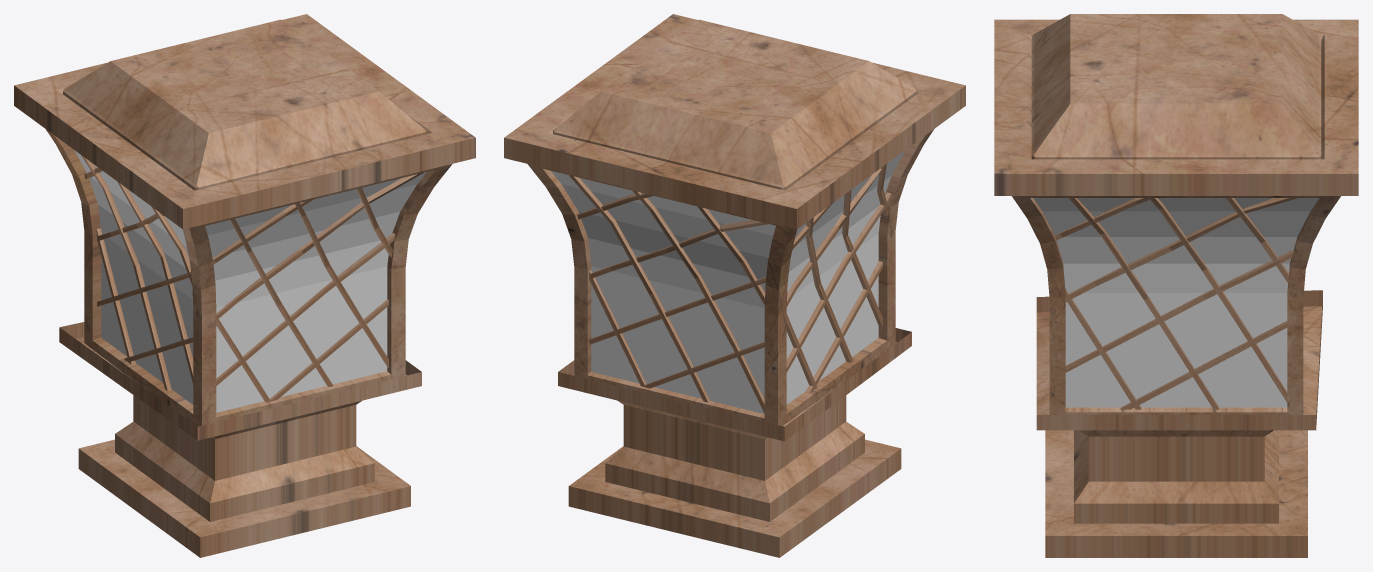
Rendered from lamp.fbx.
3 views of the same model, side by side, from view 1: azimuth 30°, elevation 25°; view 2: azimuth 150°, elevation 25°; view 3: azimuth 270°, elevation 25° (orthographic). The views are drawn at different scales.
Visible parts, largest first — view 1: Cube.004; view 2: Cube.004; view 3: Cube.004.
Boxes of the visible parts, x1,y1,x2,y2 form: Cube.004: [14, 14, 475, 557]; Cube.004: [504, 14, 965, 557]; Cube.004: [994, 14, 1358, 557].
Size of the model in its own units: 251 by 337 by 251.
